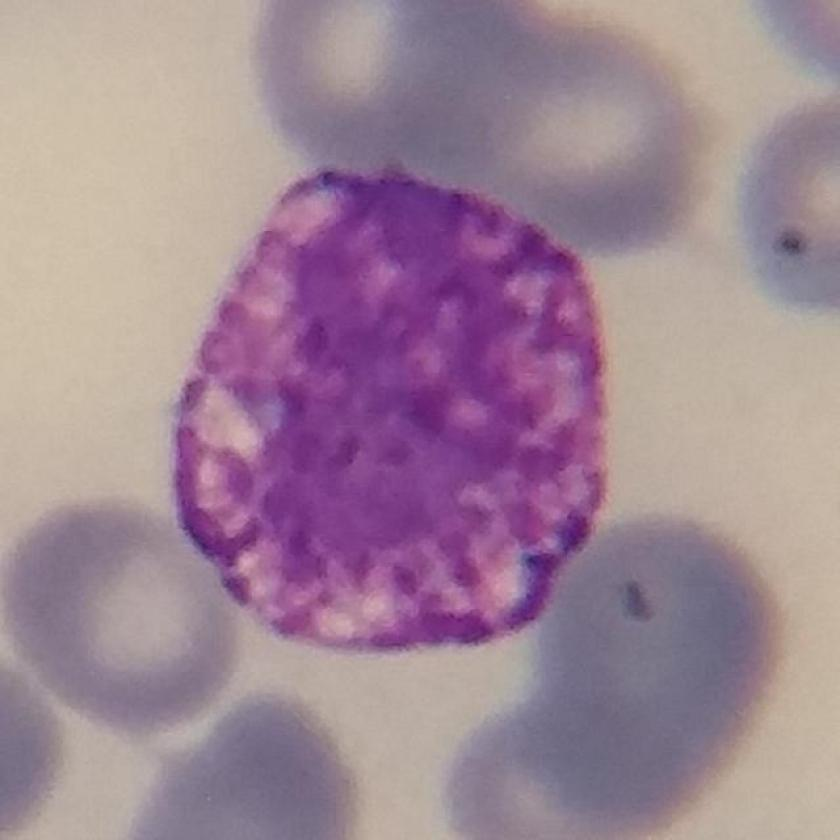basophil: (165, 161, 621, 660)
